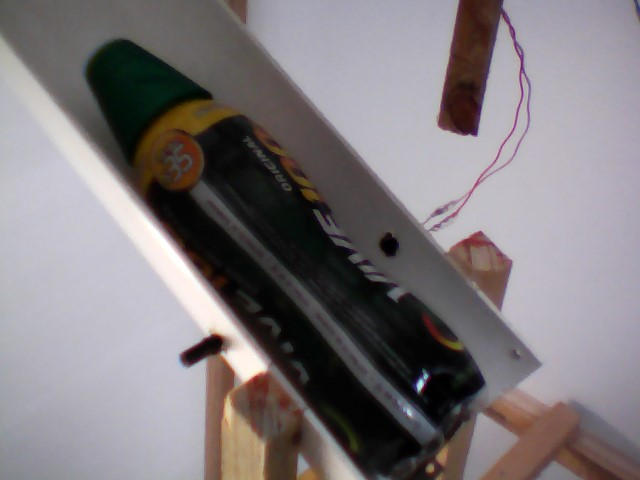plastico: (75, 33, 501, 480)
